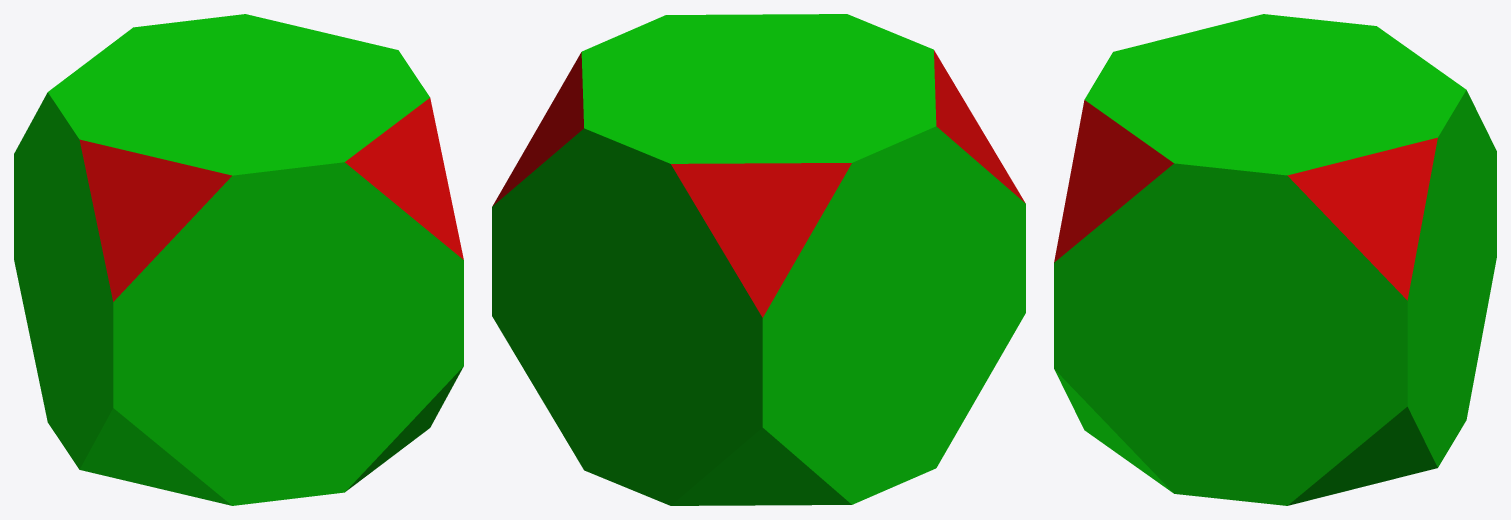
The model's file is anim_cube_000047.obj.
The picture shows the model from 3 angles, left to right: view 1: azimuth 30°, elevation 25°; view 2: azimuth 150°, elevation 25°; view 3: azimuth 270°, elevation 25°; orthographic projection. The views are drawn at different scales.
Parts seen in each view (by area): view 1: Cube_Cube.002_Material.002, Cube_Cube.002_Material.001; view 2: Cube_Cube.002_Material.002, Cube_Cube.002_Material.001; view 3: Cube_Cube.002_Material.002, Cube_Cube.002_Material.001.
Boxes of the visible parts, x1=… form: Cube_Cube.002_Material.002: x1=14, y1=14, x2=463, y2=505; Cube_Cube.002_Material.001: x1=79, y1=98, x2=463, y2=301; Cube_Cube.002_Material.002: x1=492, y1=14, x2=1025, y2=505; Cube_Cube.002_Material.001: x1=492, y1=50, x2=1024, y2=317; Cube_Cube.002_Material.002: x1=1054, y1=14, x2=1496, y2=505; Cube_Cube.002_Material.001: x1=1054, y1=100, x2=1437, y2=300.
Size of the model in its own units: 3.76 by 3.09 by 3.76.
